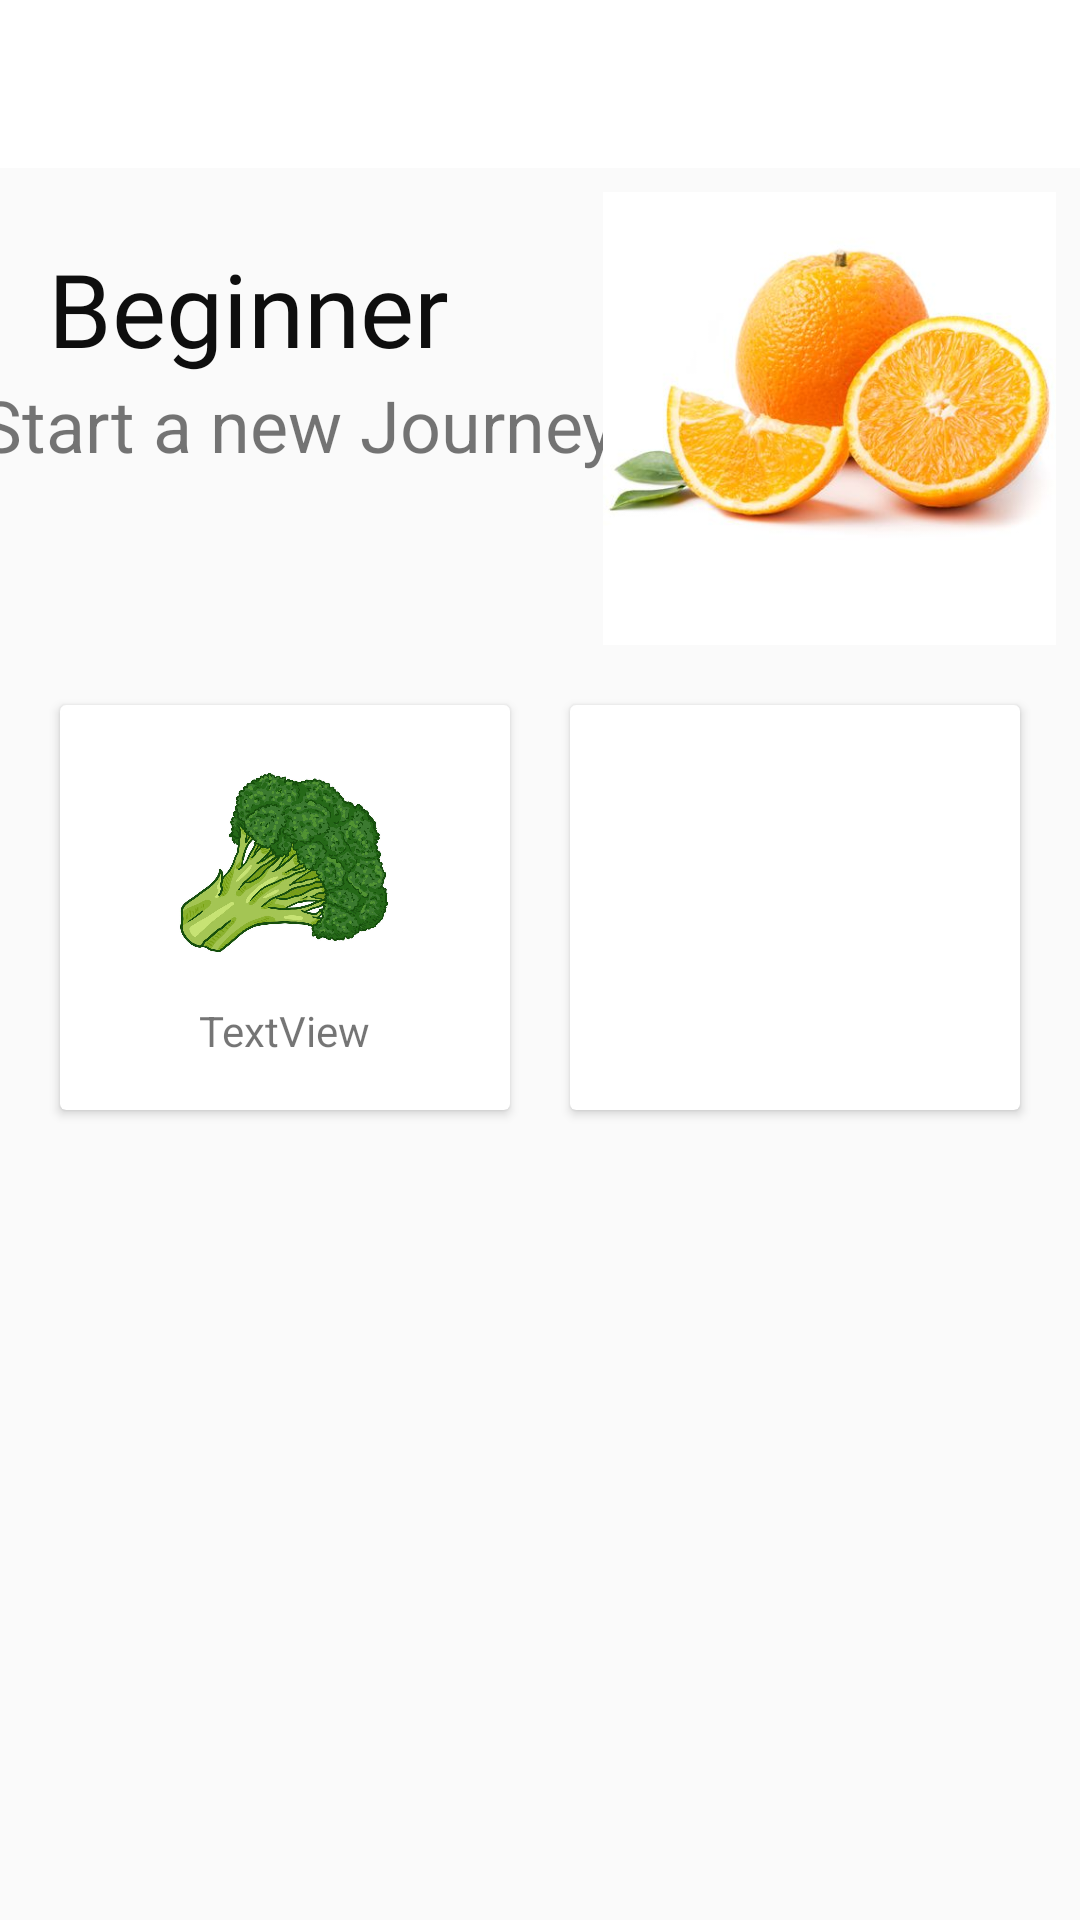

Screen size 1080px x 1920px. Icon name, then its center in pixels as [x,y]:
broccoli: [284,862]
